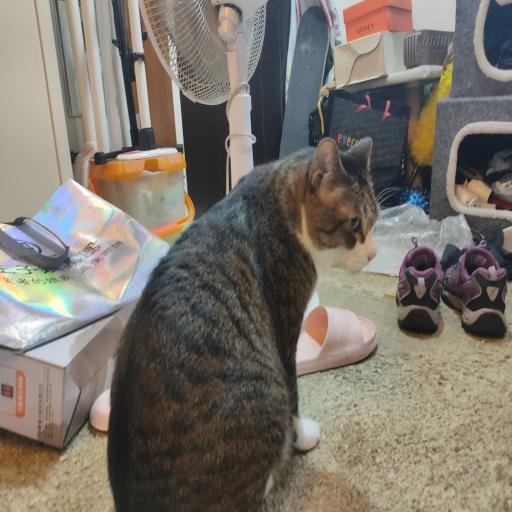cat: (117, 153, 368, 512)
